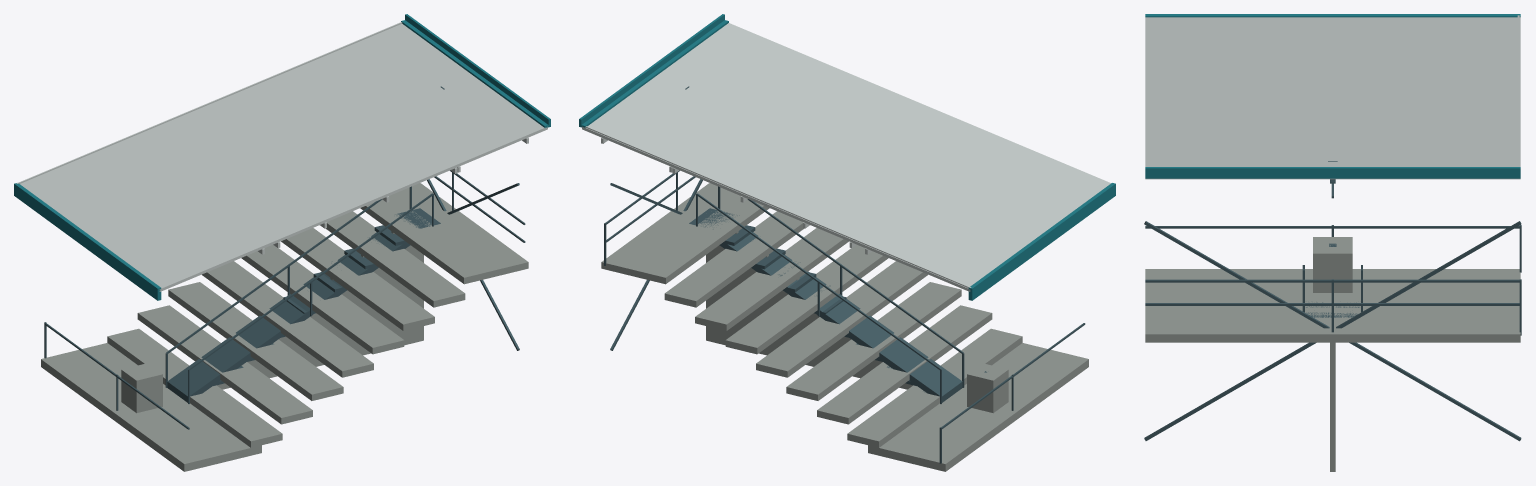
Rendered from aurel-secondary-grandstands.glb.
3 views of the same model, side by side, from view 1: azimuth 30°, elevation 25°; view 2: azimuth 150°, elevation 25°; view 3: azimuth 270°, elevation 25° (orthographic). The views are drawn at different scales.
Parts seen in each view (by area): view 1: A12_roof_far, A12_deck_far, A12_deck_near, A12_aisle_far, A12_trim_far, A12_end_far, A12_rails_far, A12_aisle_mid, A12_foot_far, A12_roof_mid, A12_foot_near; view 2: A12_roof_far, A12_deck_far, A12_deck_near, A12_aisle_far, A12_trim_far, A12_end_far, A12_rails_far, A12_aisle_mid, A12_roof_mid, A12_foot_near, A12_foot_far; view 3: A12_roof_far, A12_deck_far, A12_trim_far, A12_rails_far, A12_deck_near, A12_foot_far, A12_rails_mid, A12_foot_near, A12_end_far, A12_roof_mid.
Part boxes in pixels (<box>): A12_roof_far: <box>20,24,547,291</box>; A12_deck_far: <box>41,183,528,471</box>; A12_deck_near: <box>107,195,494,447</box>; A12_aisle_far: <box>165,186,433,403</box>; A12_trim_far: <box>14,14,550,300</box>; A12_end_far: <box>208,220,423,389</box>; A12_rails_far: <box>44,170,525,429</box>; A12_aisle_mid: <box>213,208,440,385</box>; A12_foot_far: <box>121,363,162,413</box>; A12_roof_mid: <box>16,22,460,247</box>; A12_foot_near: <box>122,366,161,411</box>; A12_roof_far: <box>582,23,1110,291</box>; A12_deck_far: <box>601,183,1088,471</box>; A12_deck_near: <box>635,195,1022,447</box>; A12_aisle_far: <box>696,186,964,403</box>; A12_trim_far: <box>579,14,1115,300</box>; A12_end_far: <box>706,225,921,389</box>; A12_rails_far: <box>604,170,1085,463</box>; A12_aisle_mid: <box>689,208,925,392</box>; A12_roof_mid: <box>585,126,971,287</box>; A12_foot_near: <box>968,368,1005,412</box>; A12_foot_far: <box>967,363,1008,413</box>; A12_roof_far: <box>1145,17,1520,179</box>; A12_deck_far: <box>1145,269,1520,342</box>; A12_trim_far: <box>1145,14,1520,178</box>; A12_rails_far: <box>1144,221,1521,441</box>; A12_deck_near: <box>1145,299,1519,312</box>; A12_foot_far: <box>1313,237,1352,292</box>; A12_rails_mid: <box>1144,221,1521,440</box>; A12_foot_near: <box>1313,237,1352,292</box>; A12_end_far: <box>1330,293,1335,471</box>; A12_roof_mid: <box>1517,15,1519,166</box>.
Size of the model in its own units: 12.65 by 8.16 by 8.04.
